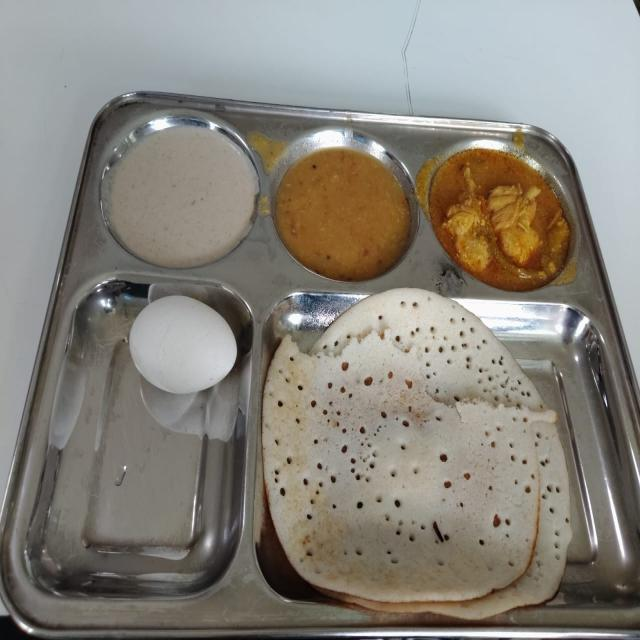Boiled egg: (127, 291, 237, 420)
Chicken curry: (448, 140, 568, 304)
Chutney: (117, 120, 252, 274)
Dosa: (272, 296, 578, 612)
sambar: (284, 135, 417, 279)
